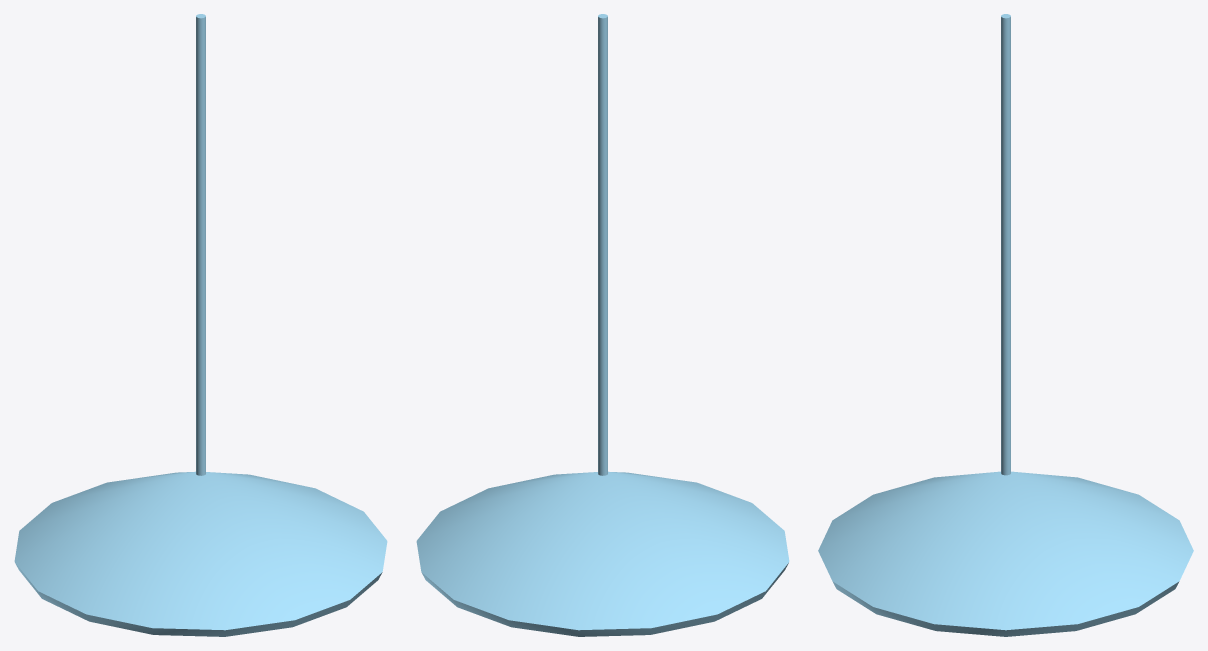
File: fot06.obj
The picture shows the model from 3 angles, left to right: view 1: azimuth 30°, elevation 25°; view 2: azimuth 150°, elevation 25°; view 3: azimuth 270°, elevation 25°; orthographic projection.
Visible parts, largest first — view 1: cone2, cylinder3; view 2: cone2, cylinder3; view 3: cone2, cylinder3.
Part boxes in pixels (bbox=[...]): cone2: bbox=[14, 471, 387, 636]; cylinder3: bbox=[196, 14, 205, 475]; cone2: bbox=[416, 471, 789, 636]; cylinder3: bbox=[598, 14, 607, 475]; cone2: bbox=[818, 471, 1193, 636]; cylinder3: bbox=[1001, 14, 1010, 475].
Bounding box in the file's own units: 2 × 3.19 × 2.
